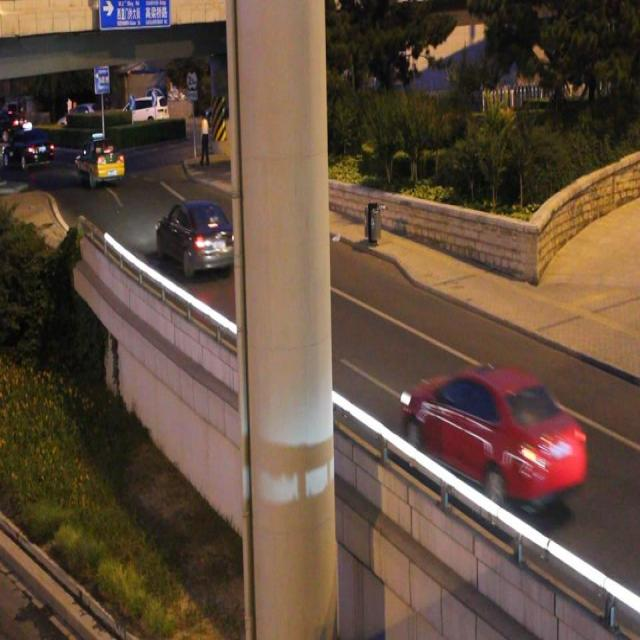car: (406, 364, 584, 508), (160, 201, 236, 275), (77, 141, 124, 184)
